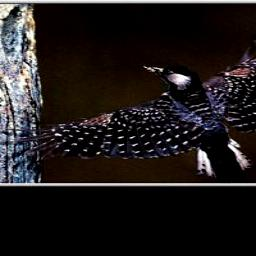Woodpecker: (8, 39, 256, 180)
